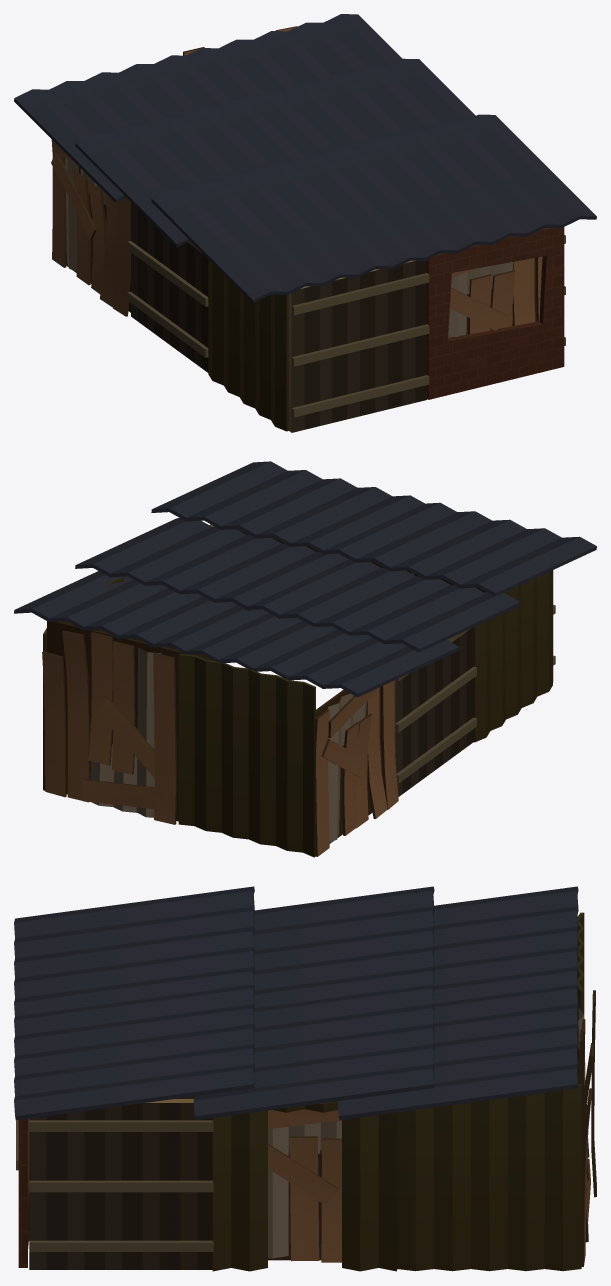
The model's file is Environment_SlumHouse_02.fbx.
3 renders of one model, top to bottom at view 1: azimuth 30°, elevation 25°; view 2: azimuth 150°, elevation 25°; view 3: azimuth 270°, elevation 25°, orthographic. The views are drawn at different scales.
Parts seen in each view (by area): view 1: Environment_SlumHouse_02; view 2: Environment_SlumHouse_02; view 3: Environment_SlumHouse_02.
Boxes of the visible parts, x1,y1,x2,y2 form: Environment_SlumHouse_02: [14, 14, 596, 432]; Environment_SlumHouse_02: [14, 461, 596, 857]; Environment_SlumHouse_02: [14, 886, 596, 1271].
Bounding box in the file's own units: 507 × 249 × 632.
